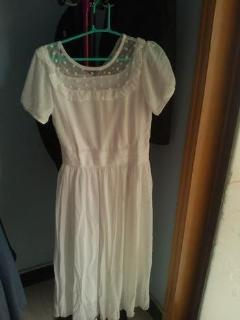short sleeve dress: (20, 33, 176, 319)
